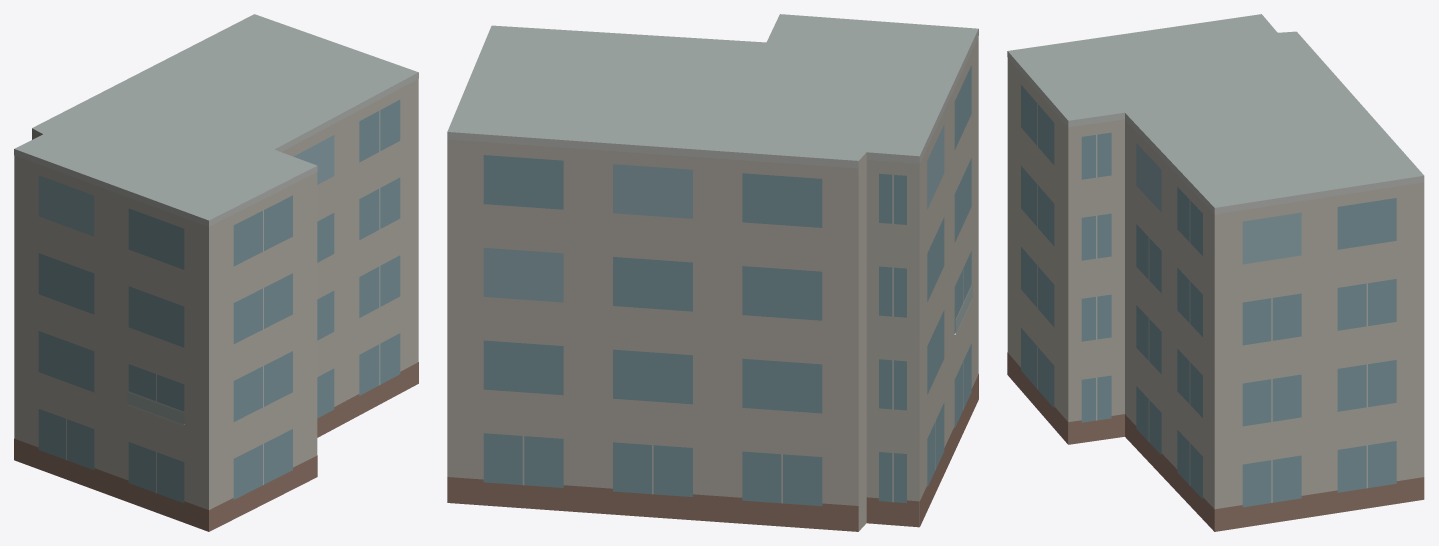
Rendered from survey-upis-32853101.glb.
3 views of the same model, side by side, from view 1: azimuth 30°, elevation 25°; view 2: azimuth 150°, elevation 25°; view 3: azimuth 270°, elevation 25° (orthographic). The views are drawn at different scales.
Visible parts, largest first — view 1: survey-upis-32853101.tmp; view 2: survey-upis-32853101.tmp; view 3: survey-upis-32853101.tmp.
Boxes of the visible parts, <box> form: survey-upis-32853101.tmp: <box>14,14,418,531</box>; survey-upis-32853101.tmp: <box>447,14,978,531</box>; survey-upis-32853101.tmp: <box>1007,14,1424,531</box>.
Bounding box in the file's own units: 15.53 × 12.09 × 14.11.
